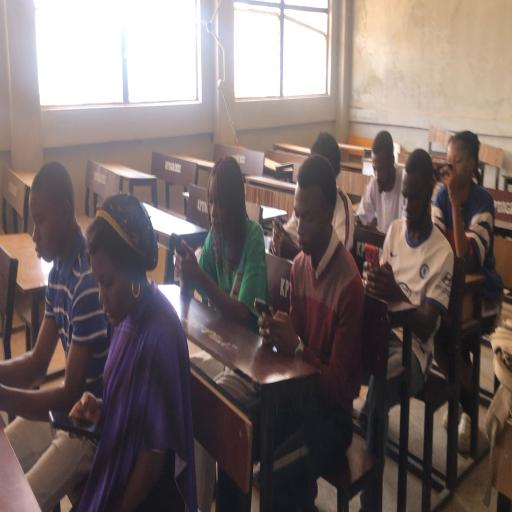Usingmobile: (6, 192, 197, 508), (260, 154, 365, 497), (0, 162, 111, 424), (432, 131, 500, 436), (372, 148, 456, 390), (175, 156, 269, 325), (430, 130, 501, 345), (353, 130, 404, 242)
